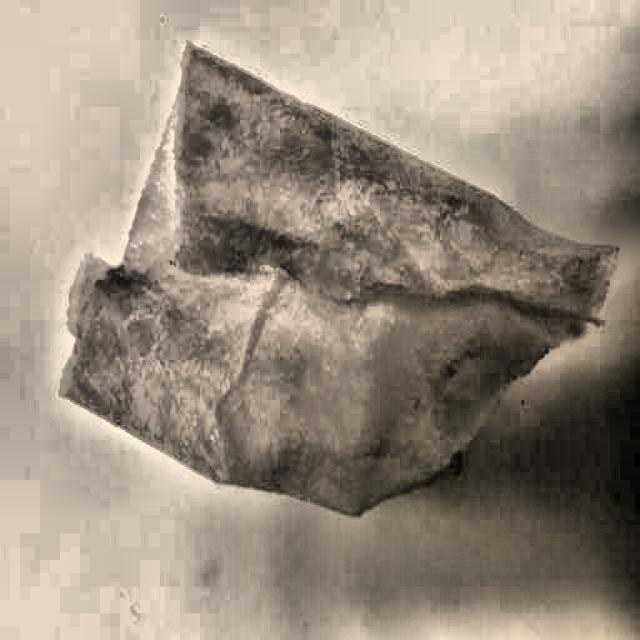trash: (75, 40, 593, 488)
